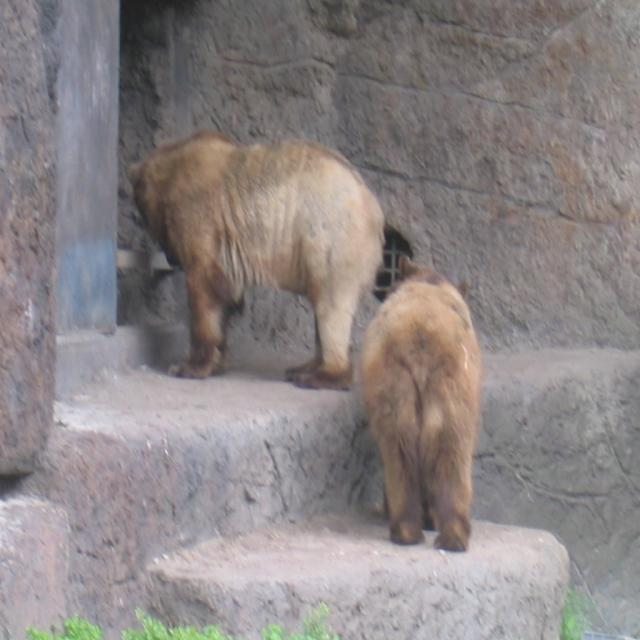Cheetahs: (124, 126, 388, 391), (360, 253, 484, 549)
